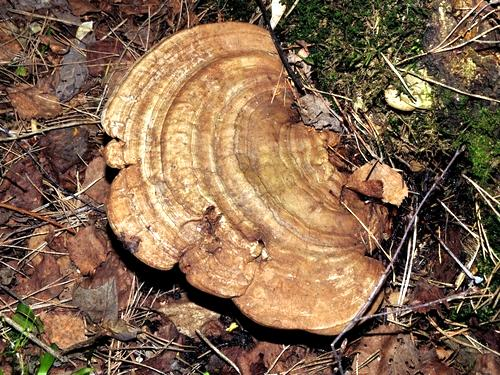Ganoderma - Fruit Body: (102, 19, 403, 332)
